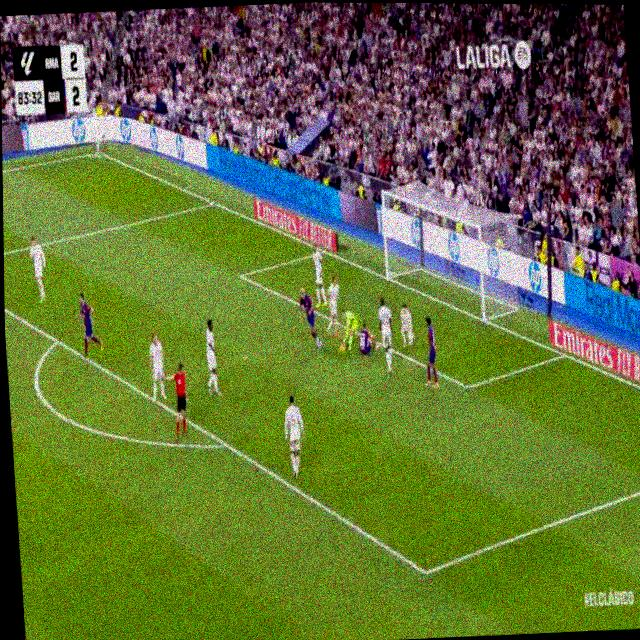bigarea_bottom_inner: (417, 553, 434, 590)
bigarea_top_outter: (209, 194, 219, 210)
bottom_arc_area_intersection: (219, 432, 232, 456)
corner: (93, 145, 105, 160)
smallarea_bottom_inner: (464, 377, 473, 397)
smallarea_top_inner: (237, 267, 245, 285)
top_arc_area_intersection: (51, 329, 63, 351)
